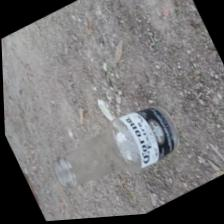glass: (47, 80, 176, 191)
